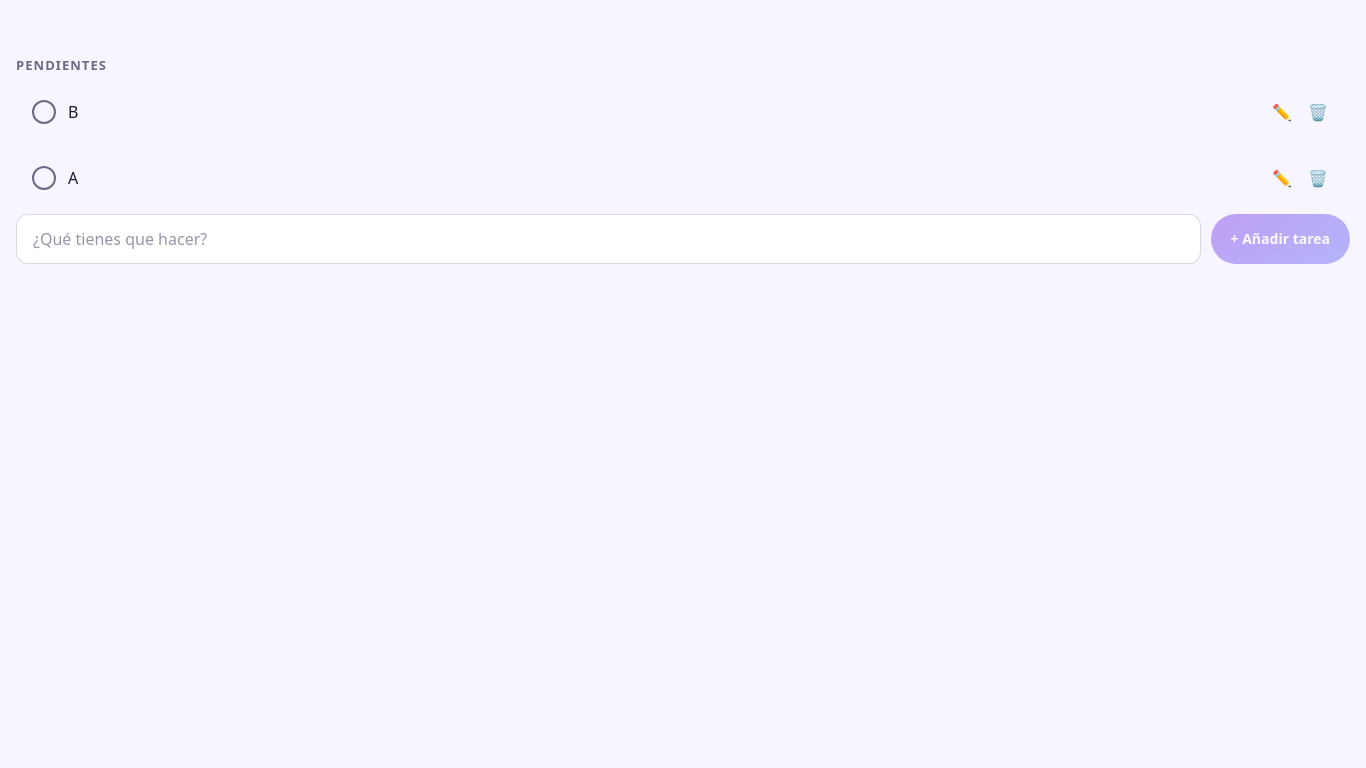
Scenario: Toast › Deshacer restores the exact task and hides the toast
Click the button named "Eliminar A". click: (1318, 178)
box: top-left (1302, 162), bottom-right (1334, 194)
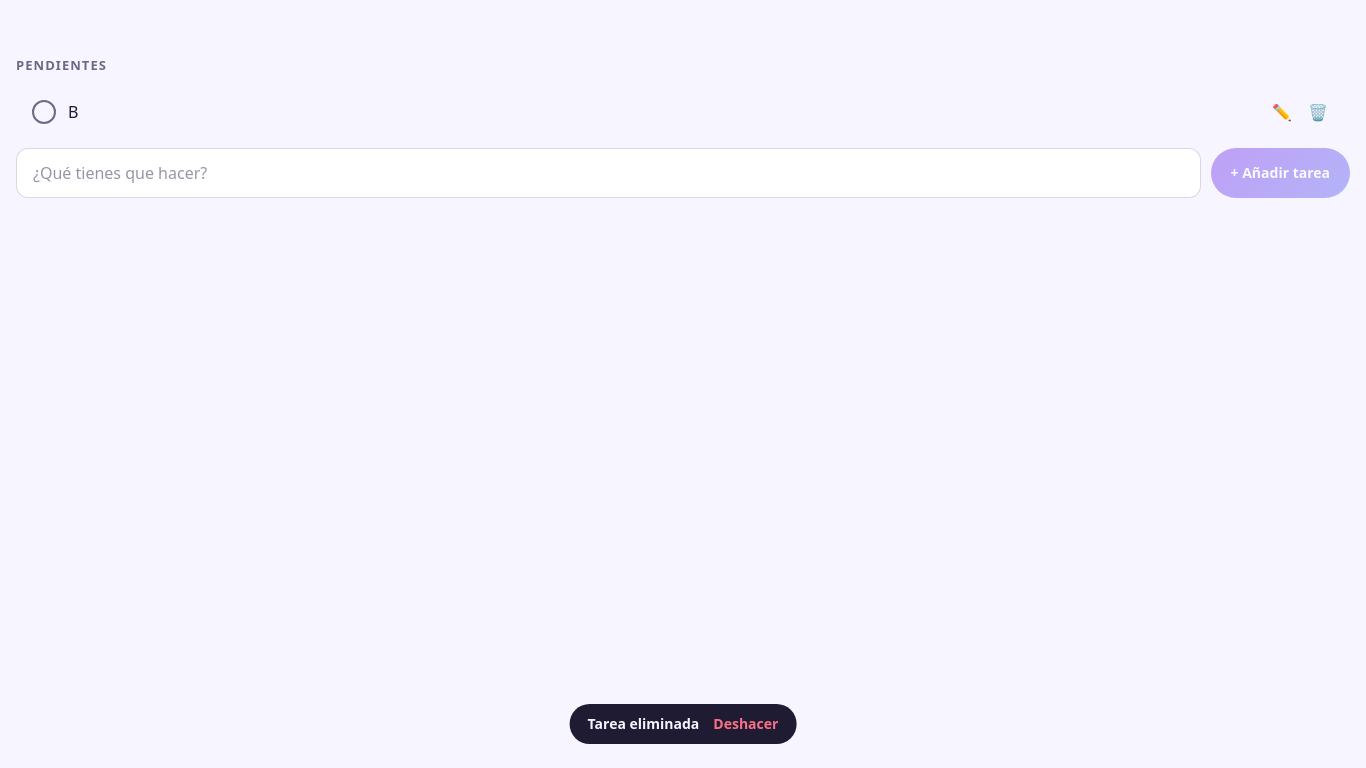
Click the button "Deshacer". click: (746, 724)
box: top-left (713, 714), bottom-right (778, 734)
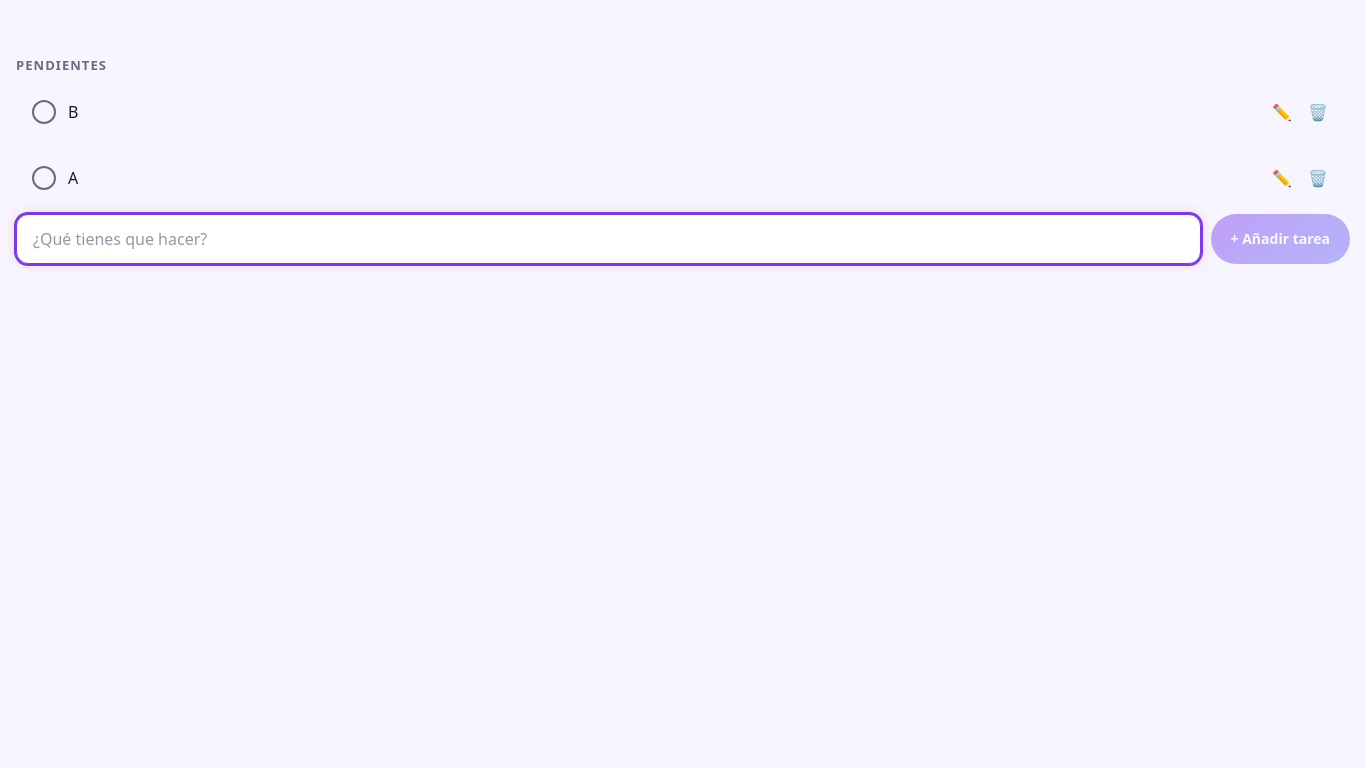
Check: the text "Tarea eliminada" is gone
